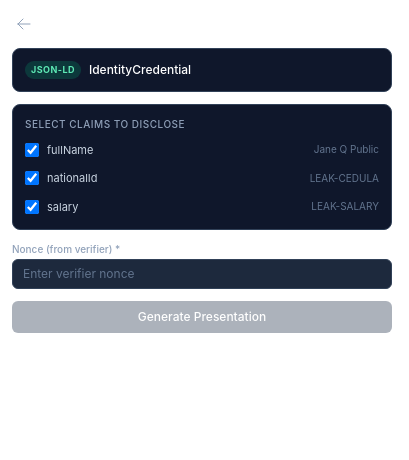
the cost of withholding is shown before the user commits › warns once a claim is unticked
Click the checkbox labelled "salary LEAK-SALARY". click: {"x": 32, "y": 207}
box: top-left (25, 200), bottom-right (39, 214)
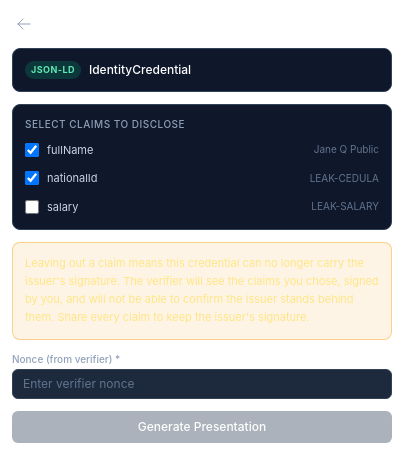
expect the message with test id "derived-warning" is shown: met, box top-left (12, 242), bottom-right (392, 340)
expect the message with test id "derived-warning" shows "issuer": met, box top-left (25, 256), bottom-right (379, 324)
